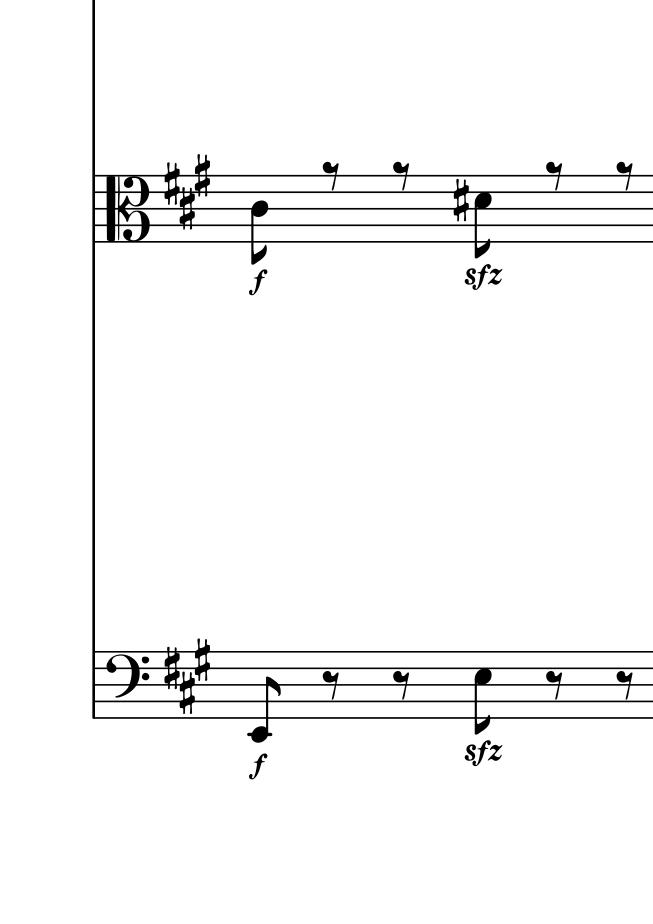8_-2: (248, 649, 281, 742)
8_4: (249, 172, 273, 265)
8_5: (473, 173, 496, 259), (473, 649, 494, 735)
A_S: (162, 149, 211, 234), (161, 638, 212, 715)
Cclef: (102, 173, 158, 242)
Fclef: (103, 651, 150, 722)
Rests8: (317, 667, 348, 700), (612, 159, 640, 193), (612, 666, 638, 701), (544, 154, 566, 194), (388, 669, 416, 700), (391, 158, 414, 191), (542, 666, 564, 699), (317, 157, 340, 188)
Sharp: (449, 175, 473, 225)
Single_barline: (85, 175, 102, 242), (86, 651, 101, 720)
f: (247, 750, 268, 780), (247, 268, 270, 295)
sfz: (459, 259, 505, 292), (464, 736, 502, 768)
